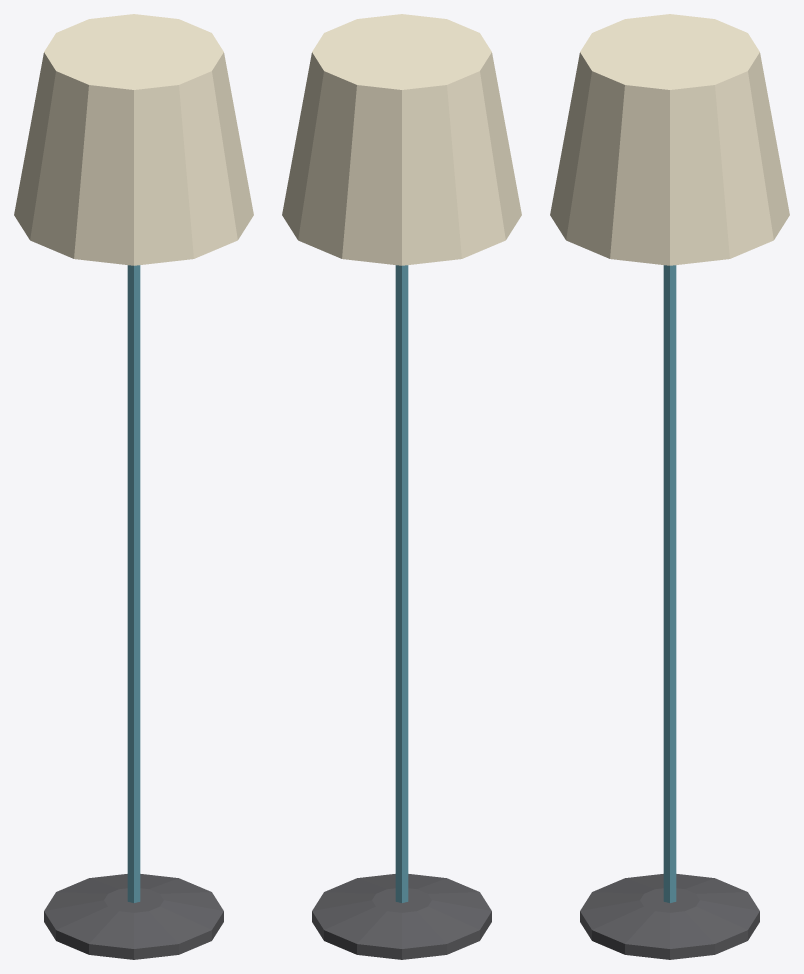
The model's file is floor_lamp.glb.
3 views of the same model, side by side, from view 1: azimuth 30°, elevation 25°; view 2: azimuth 150°, elevation 25°; view 3: azimuth 270°, elevation 25° (orthographic).
Bounding box in the file's own units: 0.4 × 1.6 × 0.4.
